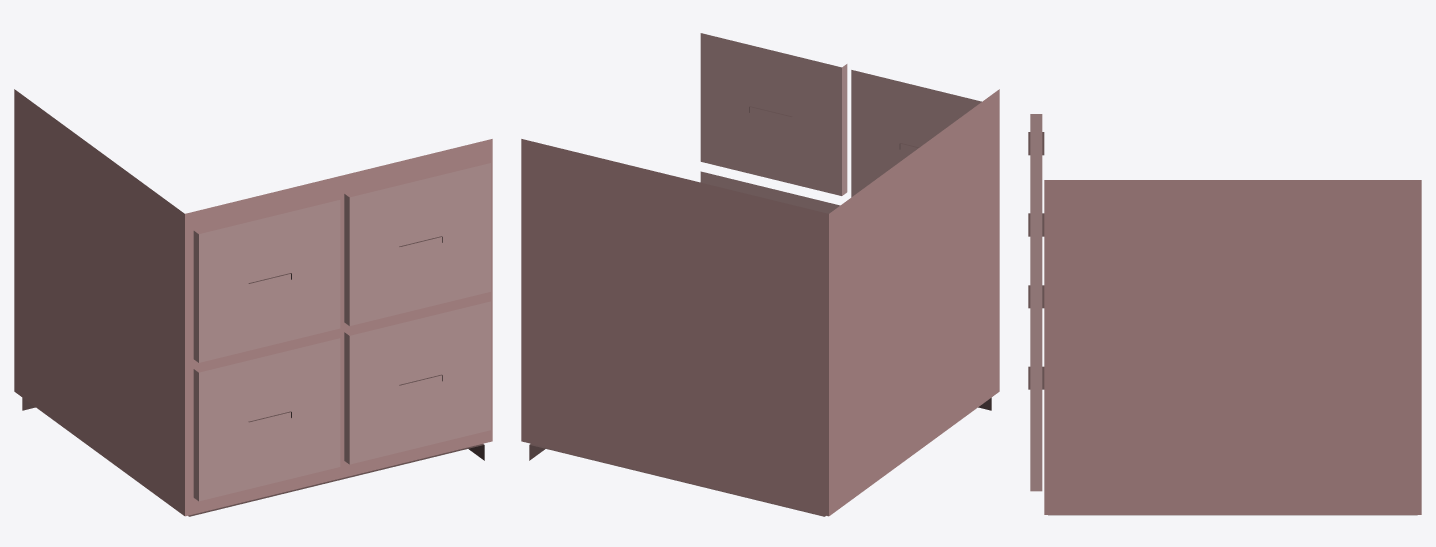
Rendered from Storage-pink.glb.
The picture shows the model from 3 angles, left to right: view 1: azimuth 30°, elevation 25°; view 2: azimuth 150°, elevation 25°; view 3: azimuth 270°, elevation 25°; orthographic projection. The views are drawn at different scales.
Visible parts, largest first — view 1: Storage; view 2: Storage; view 3: Storage.
Boxes of the visible parts, bbox=[...] form: Storage: bbox=[14, 89, 492, 516]; Storage: bbox=[521, 33, 999, 516]; Storage: bbox=[1028, 114, 1421, 515].
Bounding box in the file's own units: 1 × 1 × 1.
